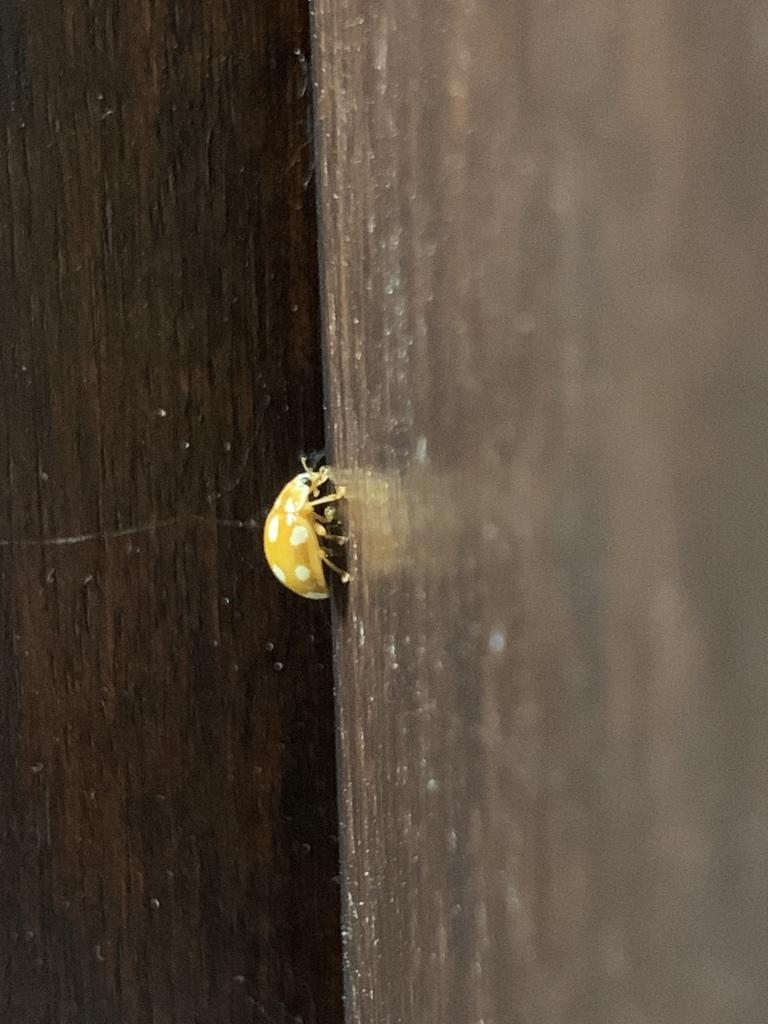ladybug: (261, 454, 356, 604)
